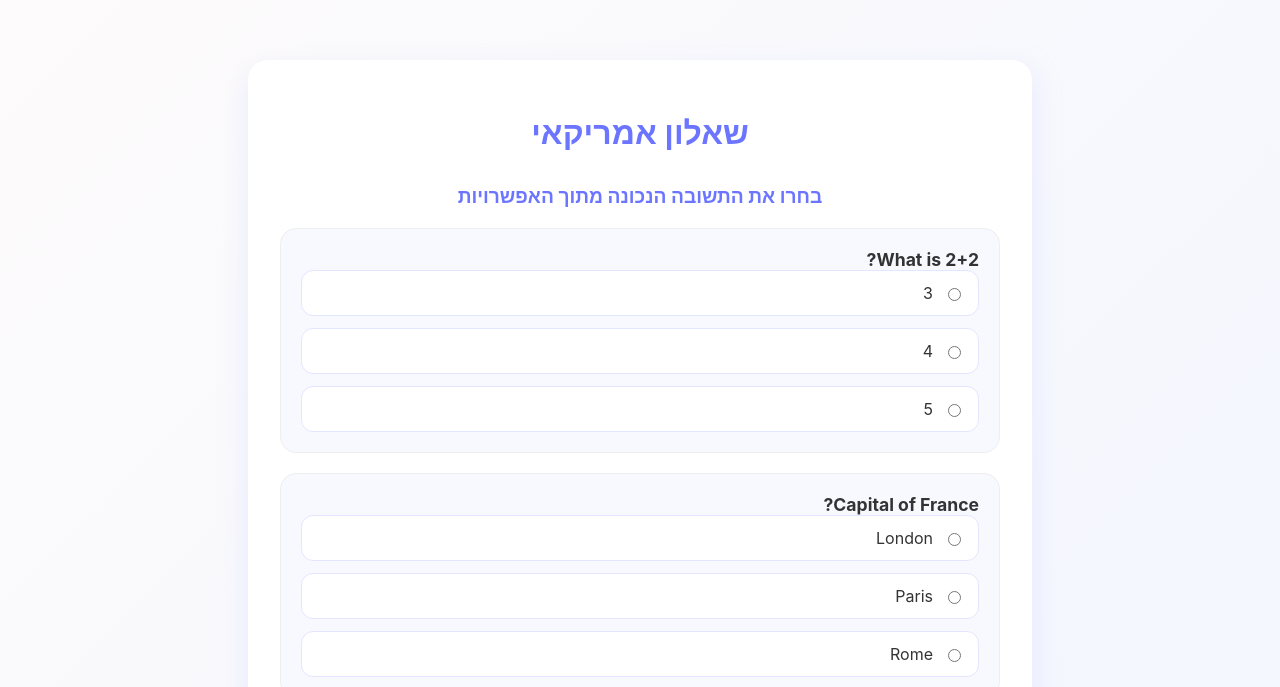
QuizPage Component › calculates score correctly after answering all questions
The width and height of the screenshot is (1280, 687).
Note: Select correct answers
Click the radio button labelled "4" at (954, 352), box top-left (948, 346), bottom-right (961, 359)
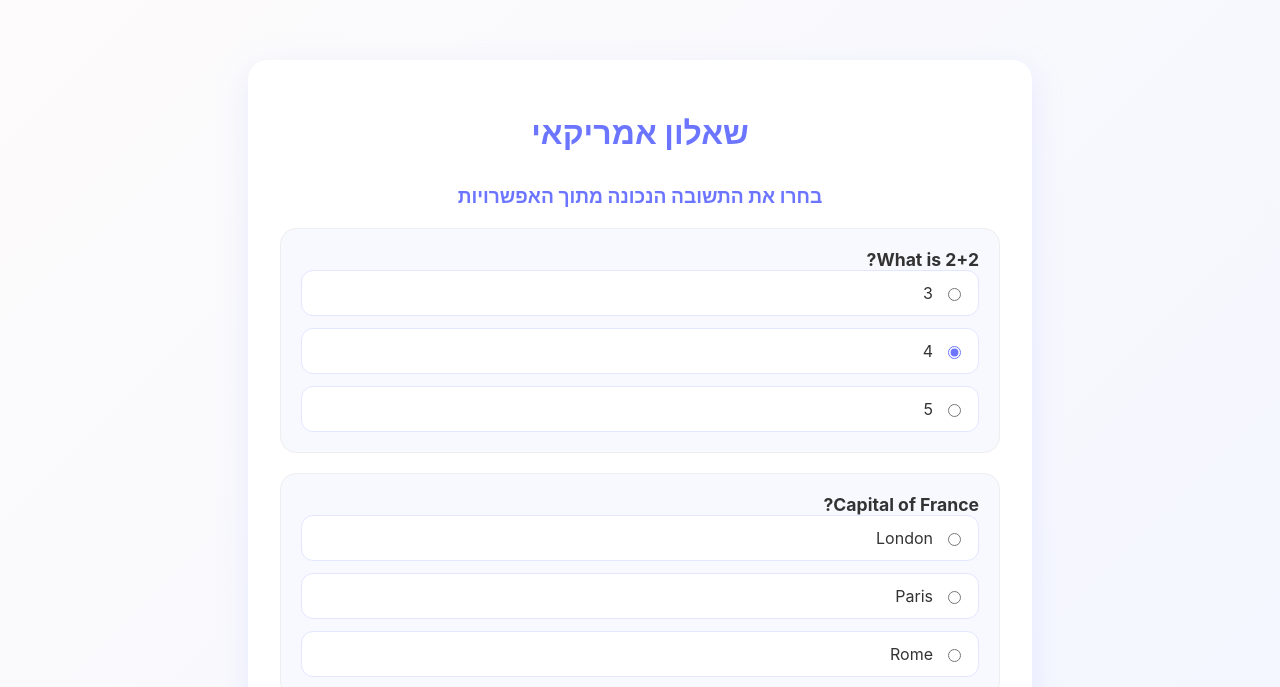
Click the radio button labelled "Paris" at (954, 597), box top-left (948, 591), bottom-right (961, 604)
(page scrolled)
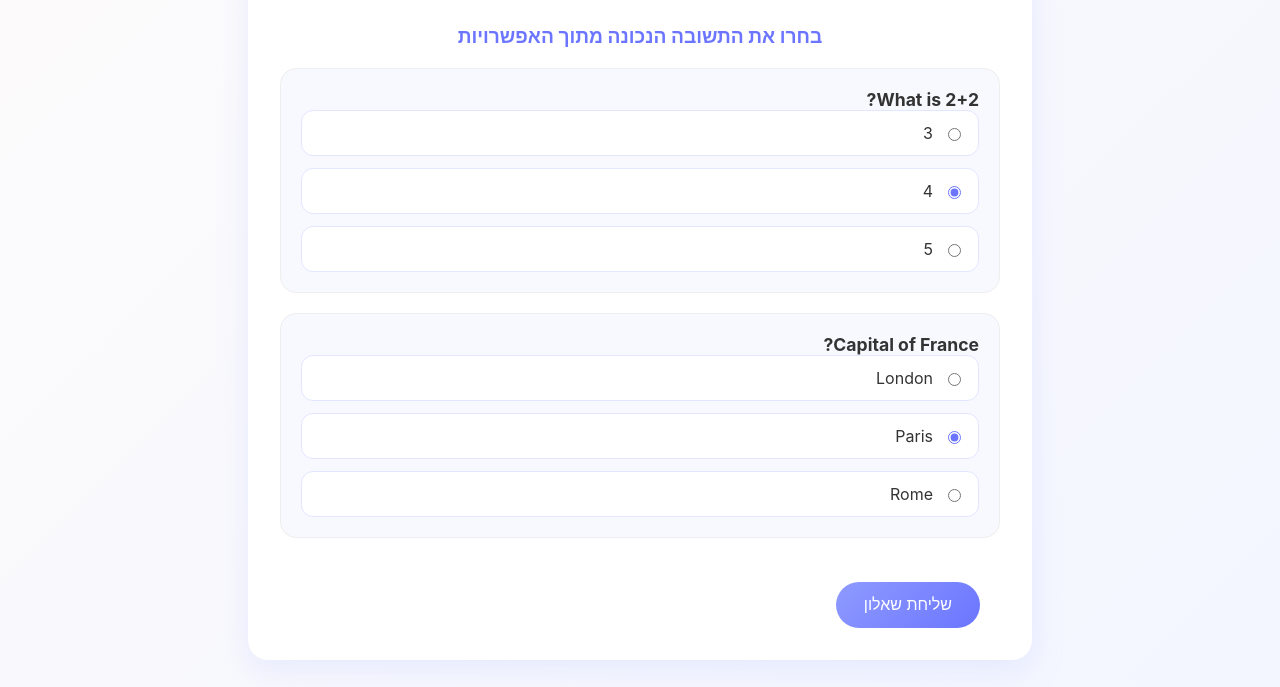
Click the button "שליחת שאלון" at (908, 605), box top-left (836, 582), bottom-right (980, 628)
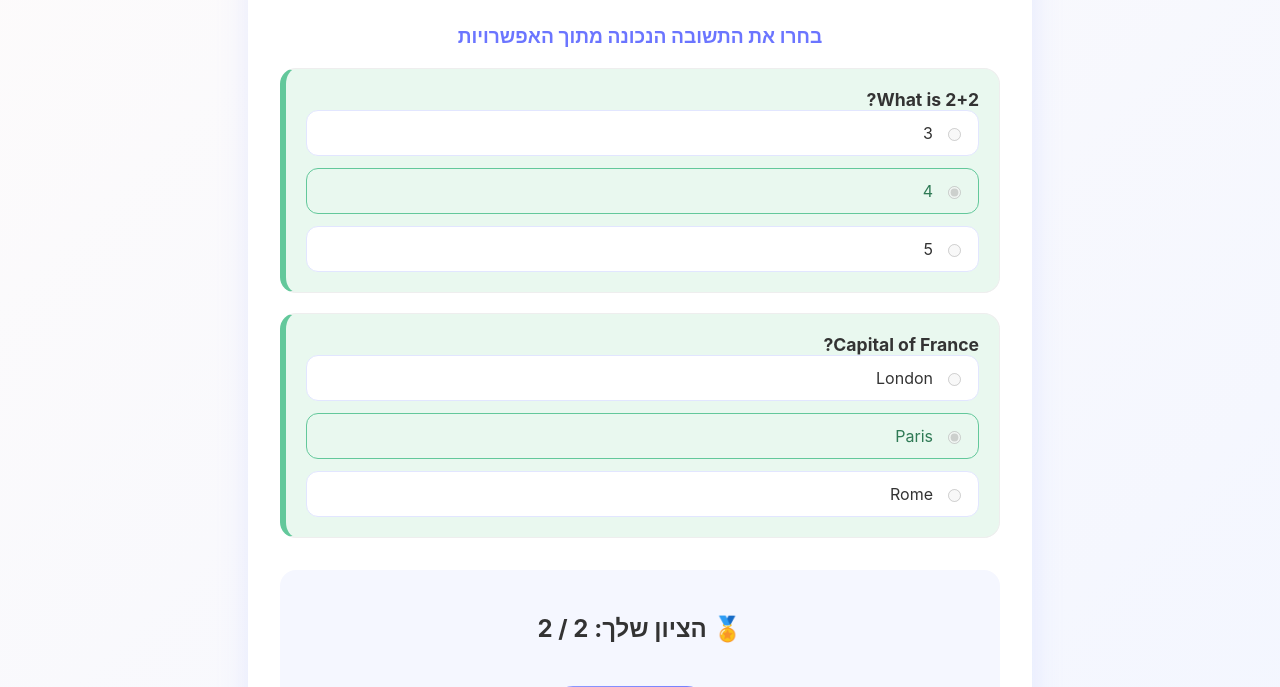
Expected: the heading "🏅 הציון שלך: 2 / 2" is shown, top-left (538, 614), bottom-right (742, 642)
